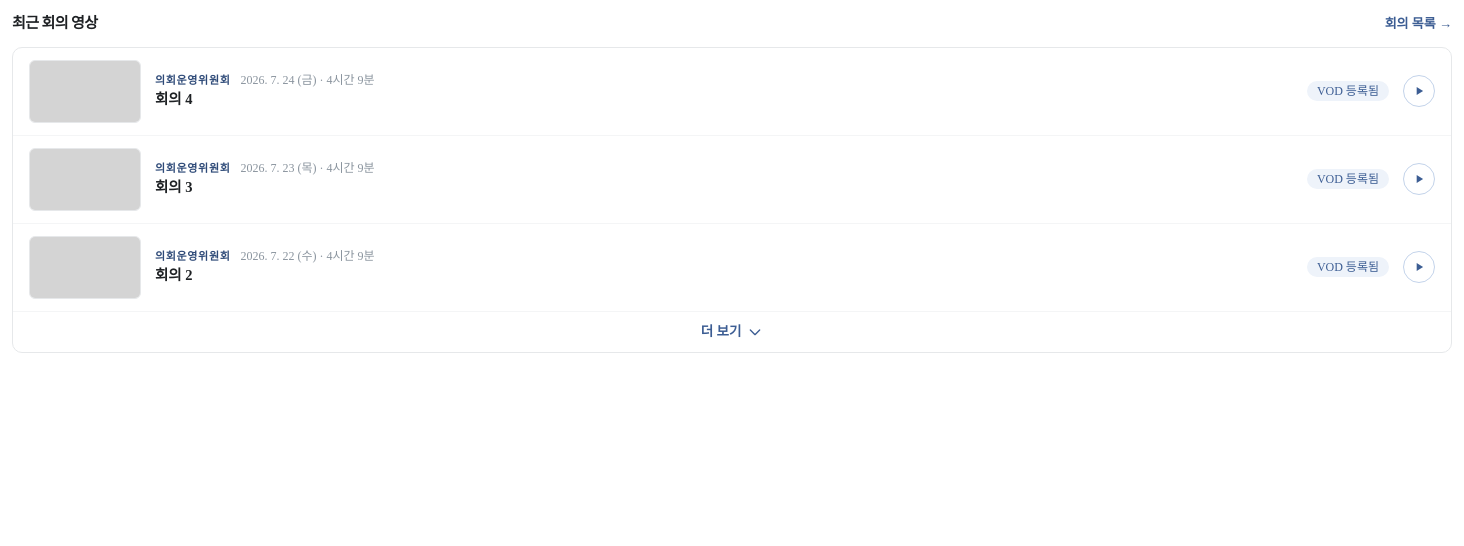
RecentMeetingsPanel › expands and collapses with the 더 보기 button
Expected: the number of list items is 3, x1=13 y1=48 x2=1451 y2=134; x1=13 y1=134 x2=1451 y2=222; x1=13 y1=222 x2=1451 y2=310
Click the button with test id "recent-meetings-toggle" at (732, 331), box x1=13 y1=310 x2=1451 y2=352
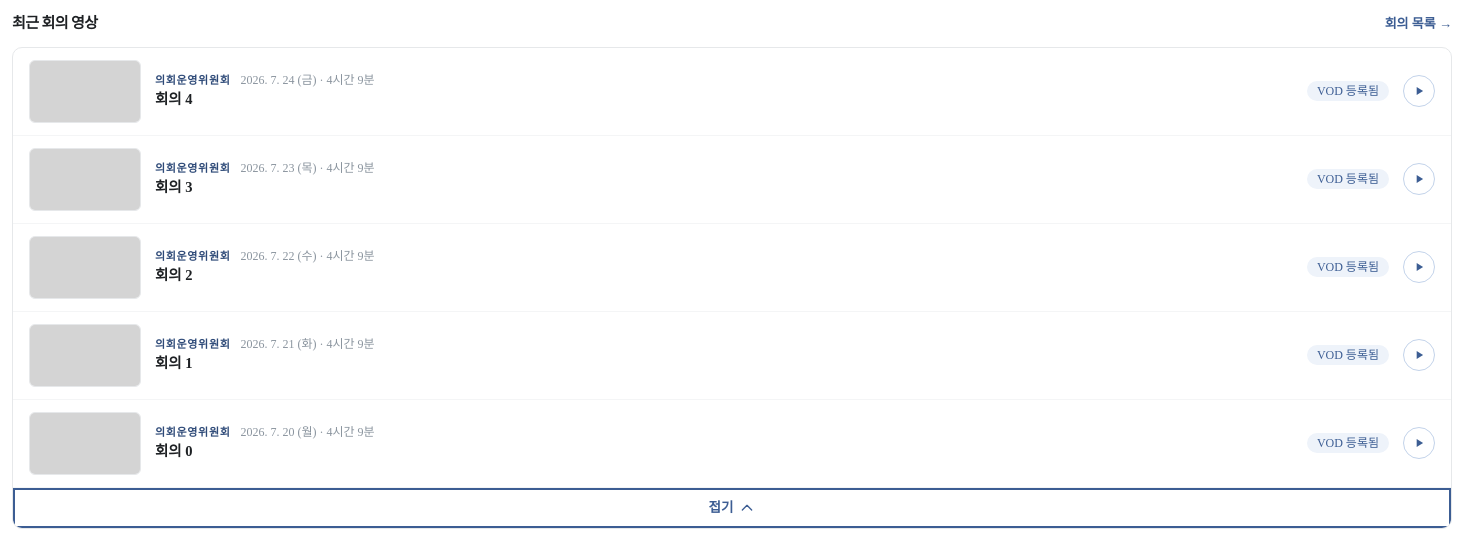
Expected: the number of list items is 5, x1=13 y1=48 x2=1451 y2=134; x1=13 y1=134 x2=1451 y2=222; x1=13 y1=222 x2=1451 y2=310; x1=13 y1=310 x2=1451 y2=398; x1=13 y1=398 x2=1451 y2=486
Click the button with test id "recent-meetings-toggle" at (732, 507), box x1=13 y1=486 x2=1451 y2=528
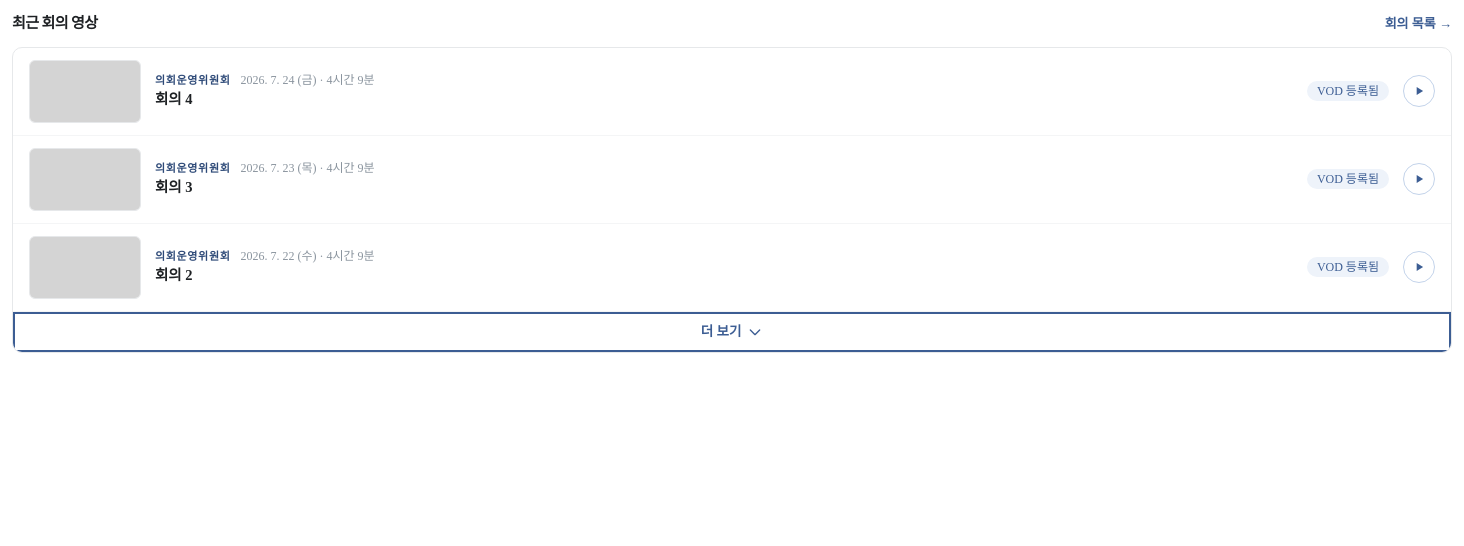
Expected: the number of list items is 3, x1=13 y1=48 x2=1451 y2=134; x1=13 y1=134 x2=1451 y2=222; x1=13 y1=222 x2=1451 y2=310
